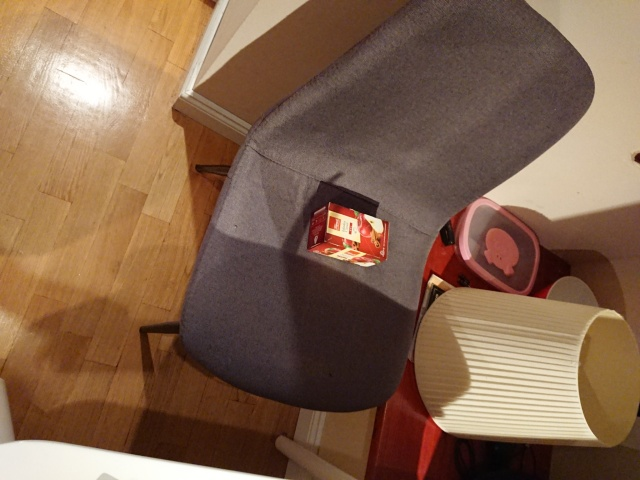Franck Apple Cinnamon Tea 60g: (303, 199, 392, 270)
